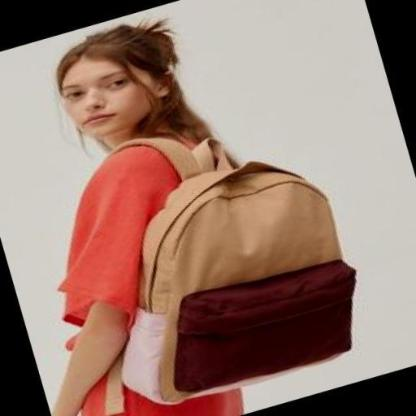bag: (127, 153, 358, 401)
person: (37, 12, 254, 416)
